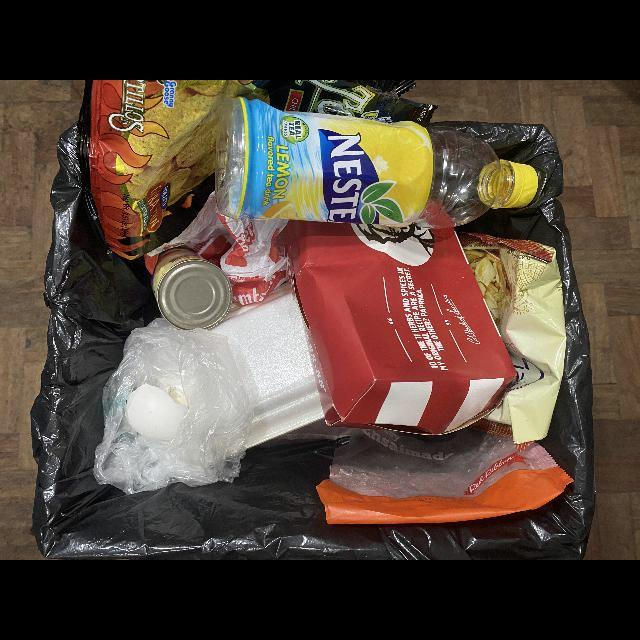aluminum: (150, 249, 232, 332)
cardboard: (278, 197, 517, 435)
food_wrapper: (77, 80, 438, 260), (314, 427, 575, 524), (454, 230, 567, 444)
paper: (143, 190, 290, 305)
plastic_bag: (94, 318, 253, 493)
plastic_bottle: (214, 95, 538, 229)
